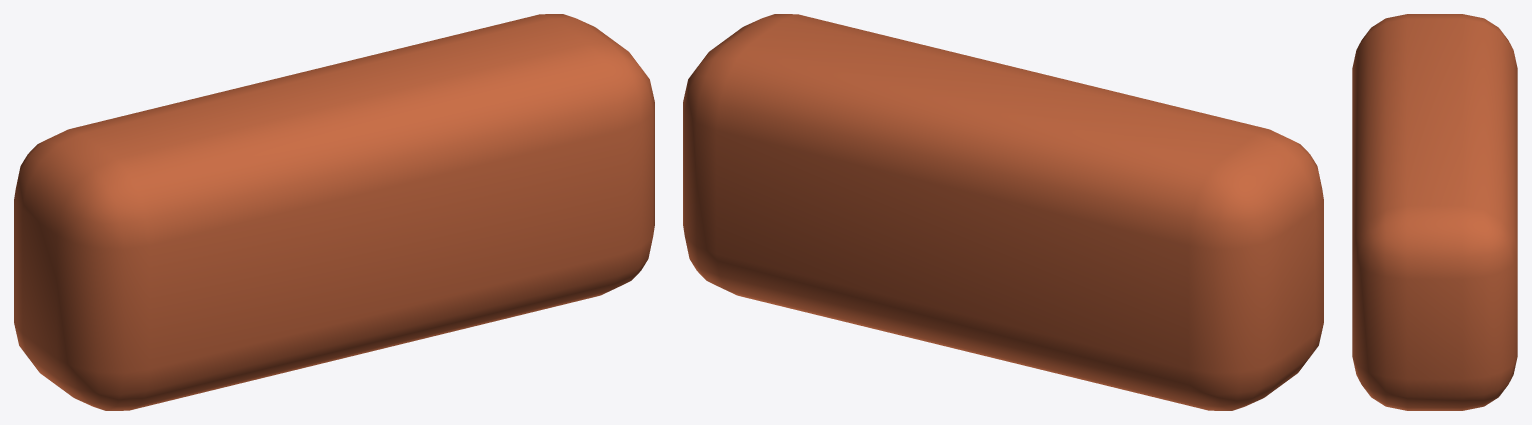
File: electric_planer_trigger.glb
3 renders of one model, left to right at view 1: azimuth 30°, elevation 25°; view 2: azimuth 150°, elevation 25°; view 3: azimuth 270°, elevation 25°, orthographic. The views are drawn at different scales.
Visible parts, largest first — view 1: electric_planer_trigger; view 2: electric_planer_trigger; view 3: electric_planer_trigger.
Boxes of the visible parts, box(x1,y1,x2,y2) form: electric_planer_trigger: box(14, 14, 654, 410); electric_planer_trigger: box(683, 14, 1323, 410); electric_planer_trigger: box(1352, 14, 1517, 410).
Bounding box in the file's own units: 0.04 × 0.016 × 0.012.
